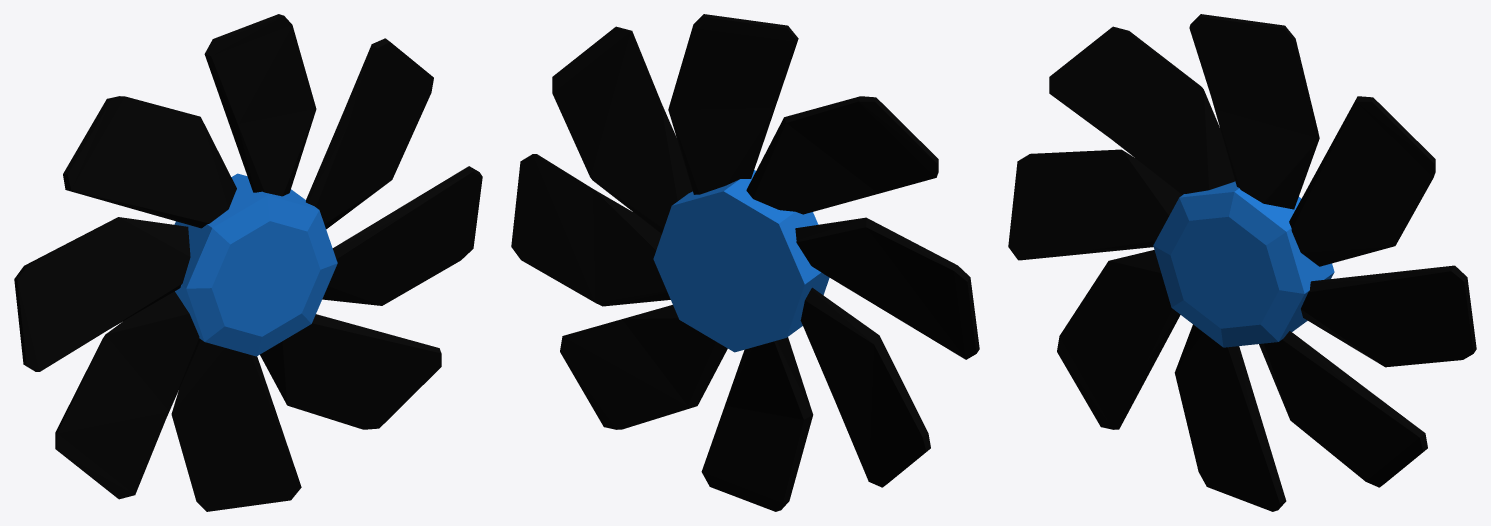
File: jarst_ventilator.fbx
3 renders of one model, left to right at view 1: azimuth 30°, elevation 25°; view 2: azimuth 150°, elevation 25°; view 3: azimuth 330°, elevation 25°, orthographic.
Parts seen in each view (by area): view 1: Cube_29; view 2: Cube_29; view 3: Cube_29.
Boxes of the visible parts, x1=… form: Cube_29: x1=14, y1=14, x2=482, y2=511; Cube_29: x1=511, y1=14, x2=979, y2=511; Cube_29: x1=1008, y1=14, x2=1476, y2=511.
Bounding box in the file's own units: 16.92 × 16.92 × 2.18.
